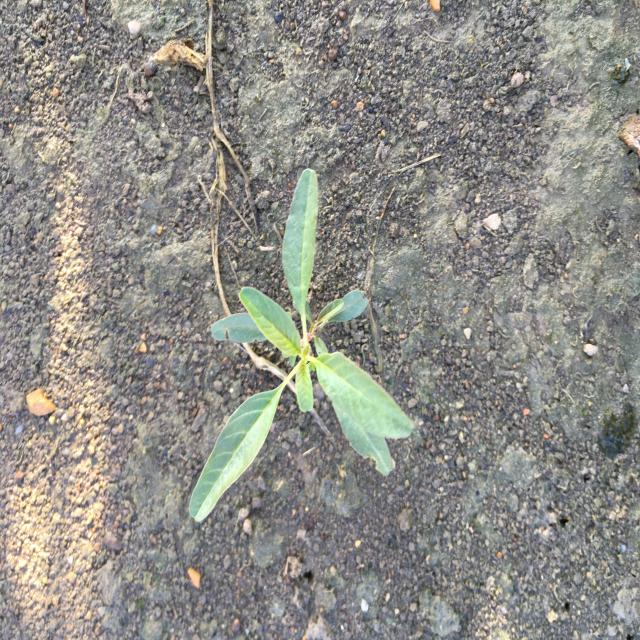Waterhemp: (187, 166, 415, 524)
